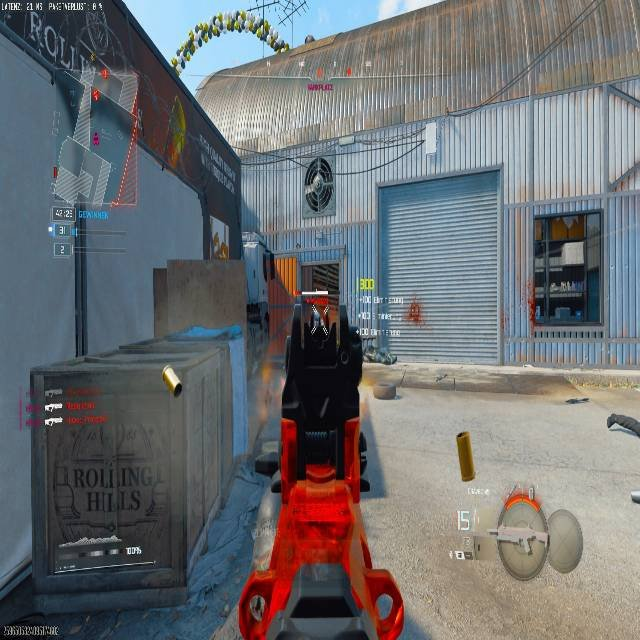player: (302, 158, 334, 215)
